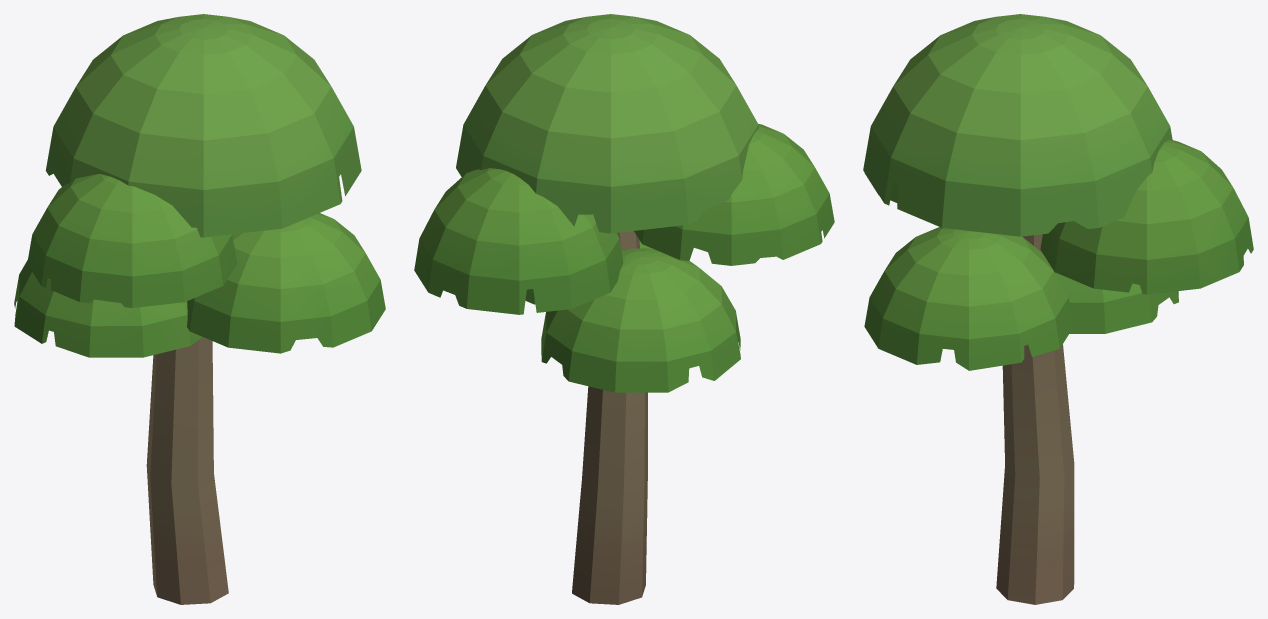
File: Dino_Tree_C.fbx
3 views of the same model, side by side, from view 1: azimuth 30°, elevation 25°; view 2: azimuth 150°, elevation 25°; view 3: azimuth 270°, elevation 25° (orthographic).
Parts seen in each view (by area): view 1: Dino_Tree_C_mesh; view 2: Dino_Tree_C_mesh; view 3: Dino_Tree_C_mesh.
Boxes of the visible parts, box(x1,y1,x2,y2) form: Dino_Tree_C_mesh: box(14, 14, 385, 604); Dino_Tree_C_mesh: box(414, 14, 834, 604); Dino_Tree_C_mesh: box(863, 14, 1253, 604).
Size of the model in its own units: 24.64 by 40.3 by 25.33.
